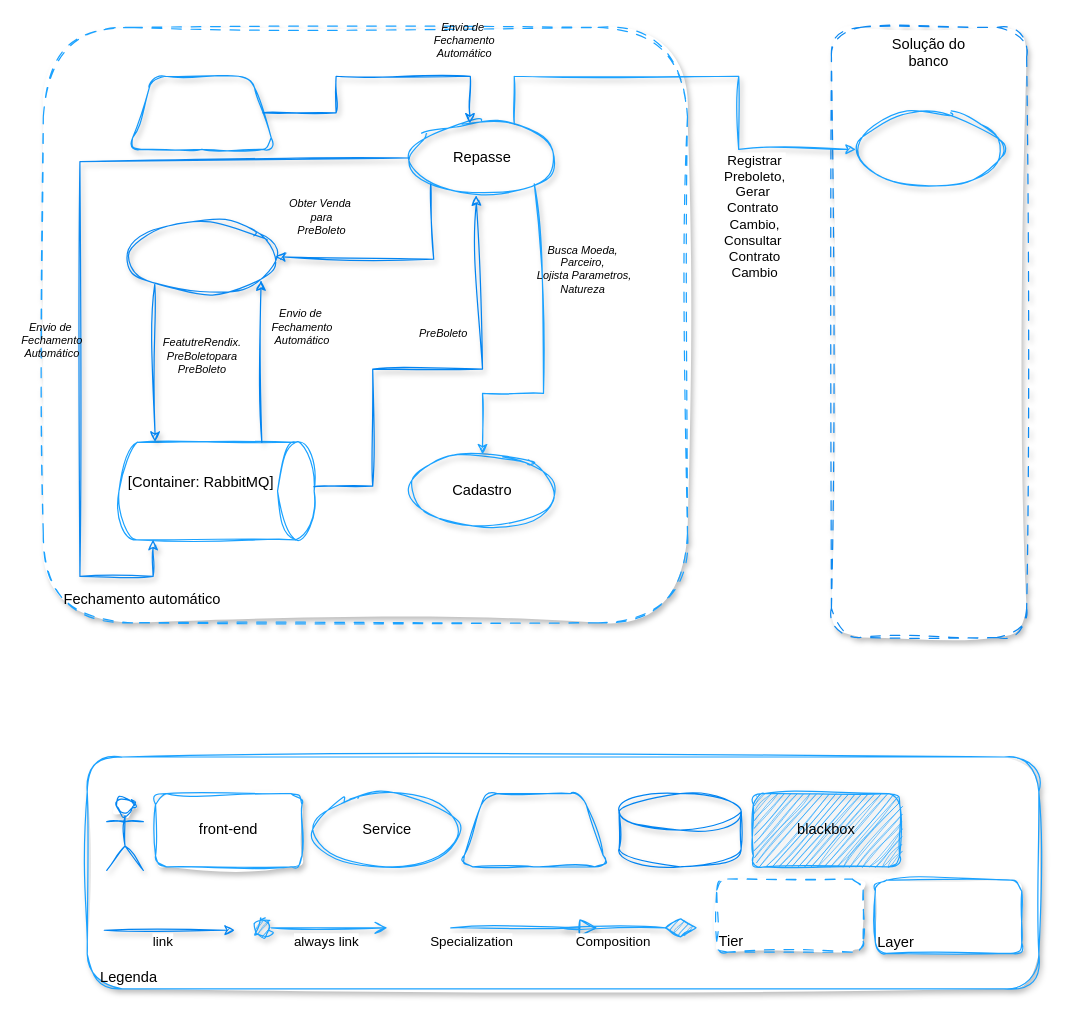
Image size: 1068x1019. Some labels were removed from this diagram. Each missing label, with the centre of its shape:
"Actor" goes at (x=126, y=835).
"batch" goes at (x=534, y=831).
"Caas (taxa)" goes at (x=930, y=151).
"database" goes at (x=680, y=831).
"Repasse Worker" goes at (x=202, y=114).
"Venda" goes at (x=202, y=258).
